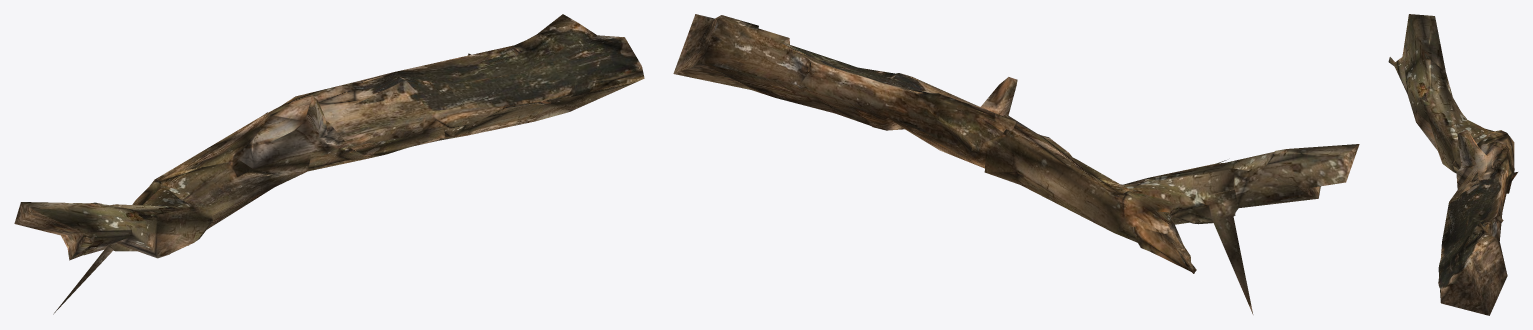
The model's file is dead_tree_trunk_02_lod2.glb.
3 renders of one model, left to right at view 1: azimuth 30°, elevation 25°; view 2: azimuth 150°, elevation 25°; view 3: azimuth 270°, elevation 25°, orthographic. The views are drawn at different scales.
Visible parts, largest first — view 1: dead_tree_trunk_02; view 2: dead_tree_trunk_02; view 3: dead_tree_trunk_02.
Part boxes in pixels (bbox=[...]): dead_tree_trunk_02: bbox=[14, 14, 644, 314]; dead_tree_trunk_02: bbox=[673, 14, 1359, 314]; dead_tree_trunk_02: bbox=[1388, 14, 1517, 315].
Size of the model in its own units: 3.99 by 1.02 by 0.8367.
1 material, 1 textured.
